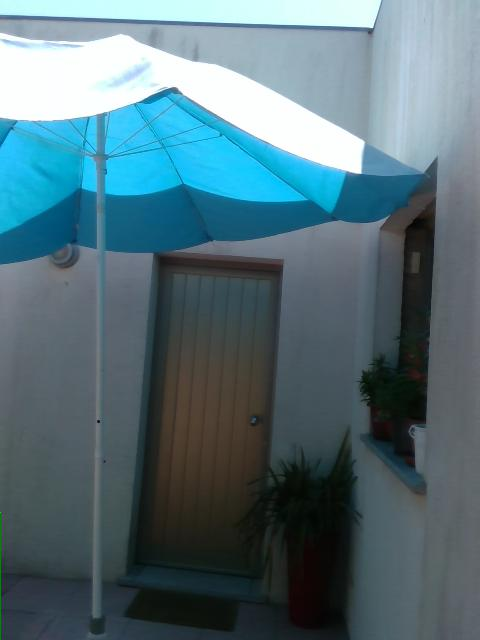closed_door: (126, 251, 283, 577)
